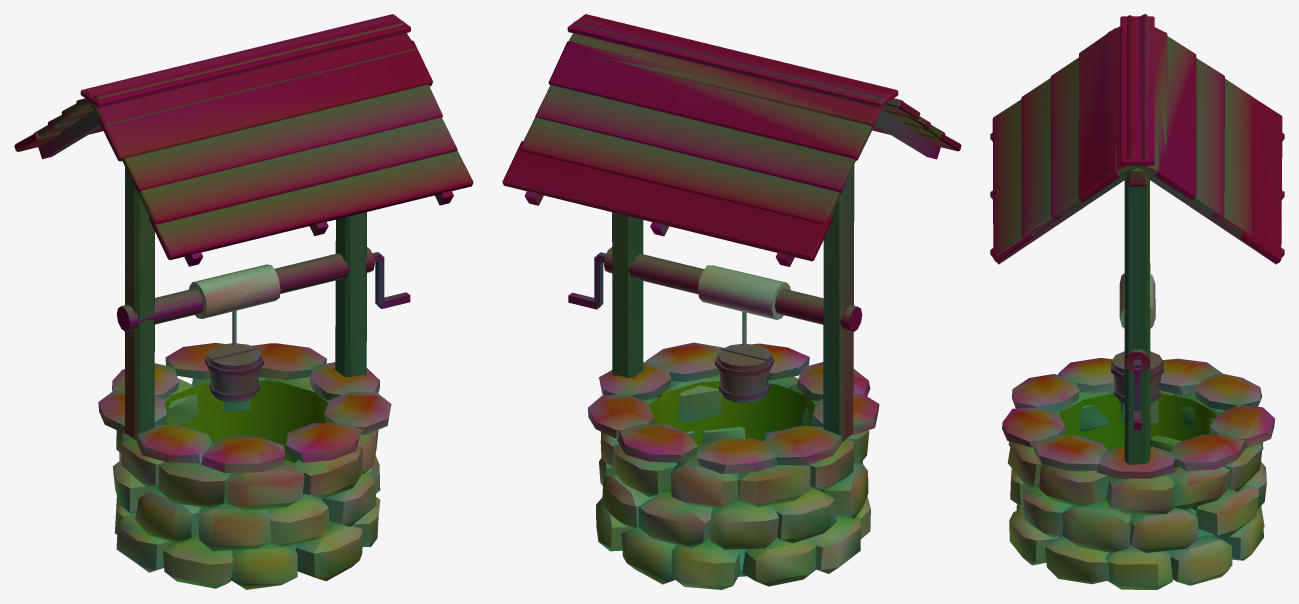
The model's file is well.glb.
The picture shows the model from 3 angles, left to right: view 1: azimuth 30°, elevation 25°; view 2: azimuth 150°, elevation 25°; view 3: azimuth 270°, elevation 25°; orthographic projection. The views are drawn at different scales.
Parts seen in each view (by area): view 1: well_LOD0; view 2: well_LOD0; view 3: well_LOD0.
Part boxes in pixels (left/top/right/bottom): well_LOD0: left=14, top=14, right=473, bottom=589; well_LOD0: left=502, top=14, right=961, bottom=589; well_LOD0: left=990, top=14, right=1284, bottom=589.
Size of what is drawn, in the model's own units: 1.12 by 1.63 by 0.9467.
